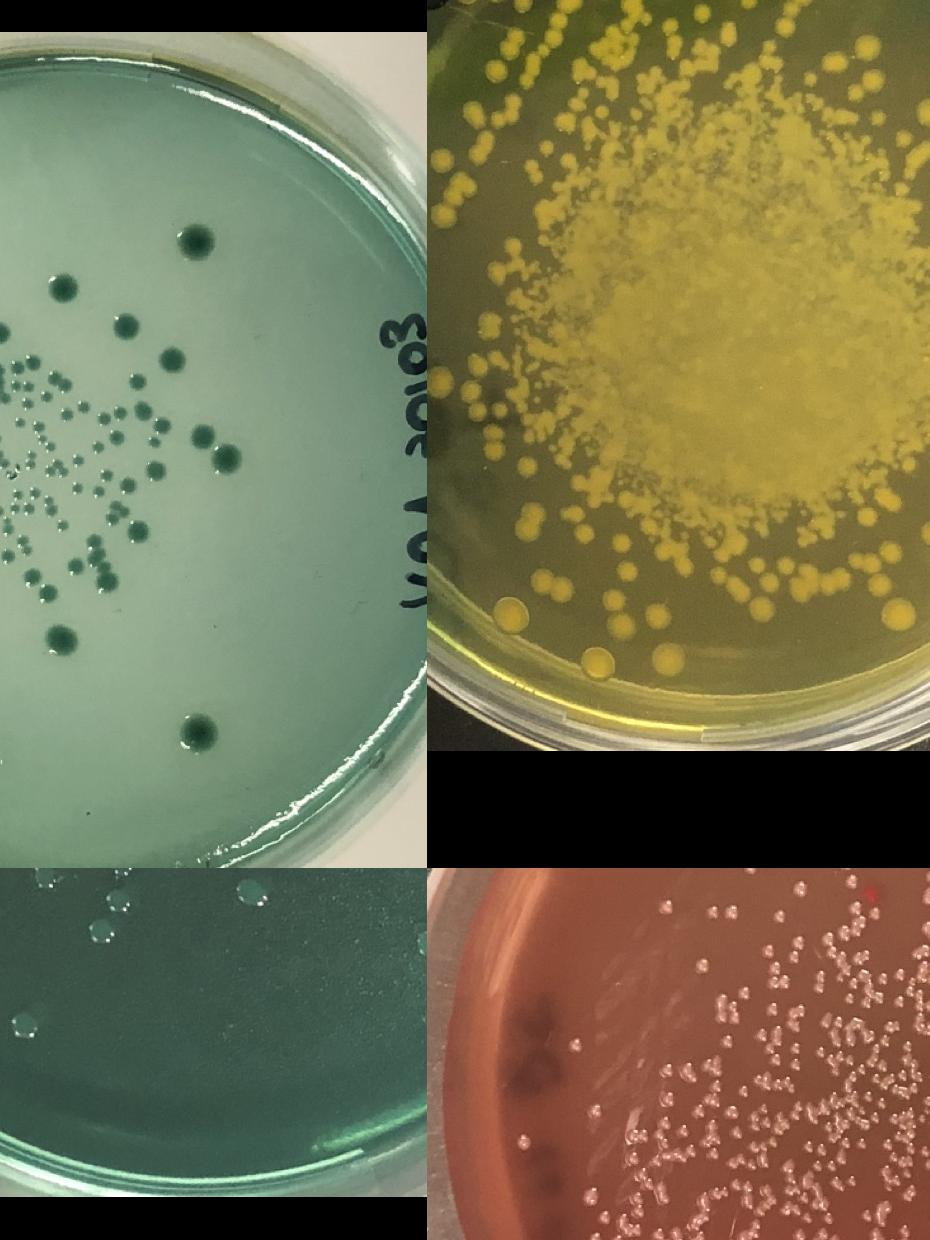assalmonicida: (780, 1190, 830, 1225), (772, 1099, 804, 1134), (836, 1049, 868, 1082), (808, 1150, 850, 1173), (726, 1151, 770, 1172), (714, 992, 742, 1024), (611, 1214, 643, 1240), (766, 960, 794, 989), (870, 1072, 902, 1096), (730, 1177, 756, 1206), (652, 1116, 672, 1152), (749, 1102, 772, 1133), (758, 1182, 780, 1212), (845, 1016, 865, 1043), (696, 1186, 723, 1206), (858, 991, 886, 1009), (822, 931, 840, 959), (786, 935, 804, 963), (635, 1168, 655, 1192), (801, 1138, 827, 1156), (838, 1134, 868, 1149), (886, 1224, 912, 1240), (652, 1227, 684, 1240), (680, 1062, 698, 1085), (708, 1080, 722, 1109), (819, 1094, 839, 1114), (908, 1072, 926, 1094), (764, 1042, 782, 1064), (630, 1192, 644, 1220), (812, 968, 827, 994), (624, 1128, 650, 1143), (840, 1109, 858, 1130), (916, 959, 930, 985), (900, 1038, 913, 1064), (902, 1183, 918, 1203), (725, 1231, 758, 1240), (912, 943, 930, 959), (808, 1227, 830, 1240), (914, 1012, 926, 1032), (880, 1136, 895, 1150), (848, 976, 863, 990), (848, 900, 863, 914), (844, 874, 859, 888), (812, 1044, 827, 1058), (780, 1157, 795, 1171), (725, 1105, 740, 1119), (588, 1102, 603, 1116), (583, 1188, 598, 1202), (917, 1113, 930, 1129), (892, 994, 906, 1008), (892, 967, 906, 981), (862, 1028, 876, 1042), (858, 1208, 872, 1222), (851, 916, 865, 930), (846, 1174, 860, 1188), (842, 991, 856, 1005), (837, 924, 851, 938), (830, 1176, 844, 1190), (822, 1211, 836, 1225), (819, 1016, 833, 1030), (798, 1174, 812, 1188), (790, 1041, 804, 1055), (788, 1057, 802, 1071), (773, 908, 787, 922), (762, 943, 776, 957), (748, 1218, 762, 1232), (748, 1140, 762, 1154), (737, 1084, 751, 1098), (737, 985, 751, 999), (720, 1033, 734, 1047), (696, 958, 710, 972), (691, 1104, 705, 1118), (684, 1144, 698, 1158), (676, 1124, 690, 1138), (660, 1091, 674, 1105), (627, 1150, 641, 1164), (598, 1209, 612, 1223), (725, 904, 740, 917), (792, 882, 806, 895), (921, 921, 930, 941), (584, 1230, 602, 1240), (886, 1111, 900, 1123), (876, 971, 890, 983), (868, 906, 882, 918), (852, 952, 866, 964), (787, 1006, 801, 1018), (765, 1002, 779, 1014), (751, 1074, 765, 1086), (730, 1126, 744, 1138), (706, 1148, 720, 1160), (705, 906, 719, 918), (655, 1192, 669, 1204), (900, 1167, 913, 1179), (876, 1096, 889, 1108), (876, 1059, 889, 1071), (918, 1144, 930, 1156), (904, 984, 916, 996), (896, 1069, 908, 1081), (888, 1151, 900, 1163), (884, 1020, 896, 1032), (880, 1165, 892, 1177), (879, 1200, 891, 1212), (879, 1034, 891, 1046), (870, 1112, 882, 1124), (862, 1090, 874, 1102), (829, 1065, 841, 1077), (786, 1082, 798, 1094), (766, 1136, 778, 1148), (757, 1028, 769, 1040), (701, 1058, 713, 1070), (661, 1063, 673, 1075), (660, 900, 672, 912), (570, 1038, 582, 1050), (518, 1135, 530, 1147), (689, 1232, 703, 1240), (922, 1093, 930, 1106), (923, 1159, 930, 1171), (924, 998, 930, 1011), (926, 869, 930, 883), (742, 868, 756, 872)
pddamselae: (86, 534, 122, 596), (210, 440, 246, 476), (179, 714, 215, 750), (178, 223, 214, 259), (107, 309, 143, 345), (44, 269, 80, 305), (42, 619, 78, 655), (144, 416, 170, 451), (7, 486, 36, 516), (32, 418, 56, 454), (32, 868, 79, 886), (189, 421, 217, 449), (238, 878, 266, 906), (160, 346, 187, 374), (125, 518, 151, 546), (8, 353, 40, 374), (89, 916, 113, 942), (11, 1013, 35, 1039), (106, 886, 128, 914), (44, 456, 68, 478), (0, 360, 11, 404), (21, 446, 38, 470), (8, 377, 34, 392), (39, 584, 58, 602), (15, 534, 32, 554), (0, 317, 12, 345), (134, 402, 152, 420), (129, 372, 147, 390), (118, 476, 136, 494), (23, 568, 40, 586), (146, 462, 164, 478), (104, 510, 122, 526), (68, 558, 86, 574), (418, 928, 427, 956), (108, 428, 122, 442), (96, 410, 110, 424), (75, 398, 89, 412), (70, 481, 84, 495), (70, 451, 84, 465), (60, 406, 74, 420), (54, 518, 68, 532), (44, 503, 58, 517), (40, 388, 54, 402), (26, 486, 40, 500), (98, 470, 112, 483), (13, 416, 26, 430), (0, 549, 13, 563), (114, 404, 126, 418), (92, 440, 106, 452), (48, 370, 62, 382), (20, 398, 34, 410), (0, 521, 12, 535), (91, 486, 104, 498), (110, 868, 132, 875), (0, 503, 4, 517)
vharveyi: (862, 540, 903, 595), (460, 380, 510, 423), (431, 172, 469, 227), (543, 0, 581, 47), (486, 90, 523, 132), (776, 0, 813, 37), (846, 68, 882, 104), (746, 554, 780, 592), (882, 596, 914, 630), (516, 504, 544, 540), (816, 566, 853, 593), (660, 14, 684, 55), (516, 55, 544, 90), (498, 25, 526, 56), (468, 133, 495, 164), (853, 29, 881, 58), (483, 424, 505, 460), (655, 643, 683, 671), (646, 602, 674, 630), (606, 612, 634, 640), (586, 652, 614, 680), (548, 574, 576, 602), (498, 599, 526, 627), (904, 139, 930, 169), (750, 598, 776, 626), (427, 366, 452, 395), (786, 579, 809, 601), (484, 261, 507, 283), (467, 353, 490, 375), (461, 100, 484, 122), (892, 124, 914, 146), (868, 106, 890, 128), (825, 51, 847, 73), (800, 68, 822, 90), (775, 554, 797, 576), (730, 580, 752, 602), (718, 24, 740, 46), (690, 1, 712, 23), (672, 555, 694, 577), (652, 540, 674, 562), (611, 532, 633, 554), (604, 588, 626, 610), (572, 522, 594, 544), (570, 60, 592, 82), (515, 457, 537, 479), (485, 60, 507, 82), (432, 148, 454, 170), (840, 516, 864, 536), (882, 493, 904, 514), (914, 95, 930, 123), (615, 562, 637, 582), (732, 0, 761, 10), (511, 0, 533, 12)
